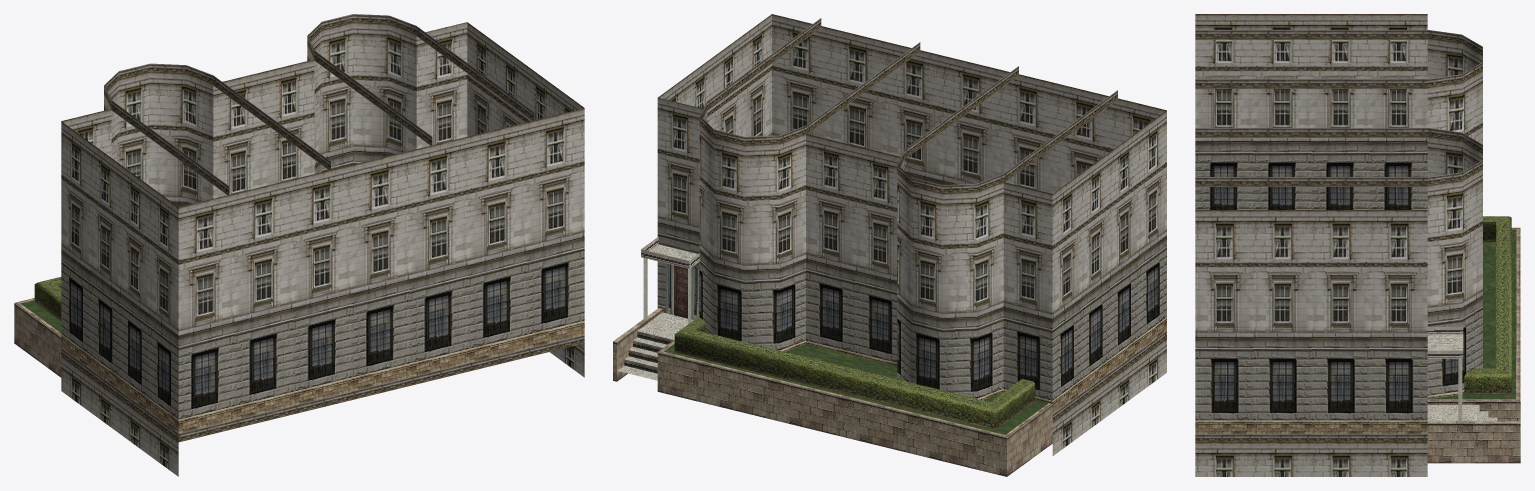
Rendered from dum06.obj.
3 views of the same model, side by side, from view 1: azimuth 30°, elevation 25°; view 2: azimuth 150°, elevation 25°; view 3: azimuth 270°, elevation 25° (orthographic). The views are drawn at different scales.
Parts seen in each view (by area): view 1: Object01; view 2: Object01; view 3: Object01.
Boxes of the visible parts, x1,y1,x2,y2 form: Object01: [14, 14, 584, 476]; Object01: [613, 14, 1166, 476]; Object01: [1195, 14, 1520, 476].
Bounding box in the file's own units: 19.96 × 13.07 × 14.
